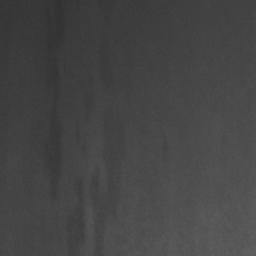Inclusion: (88, 109, 127, 256), (44, 0, 67, 198), (64, 183, 86, 256)
